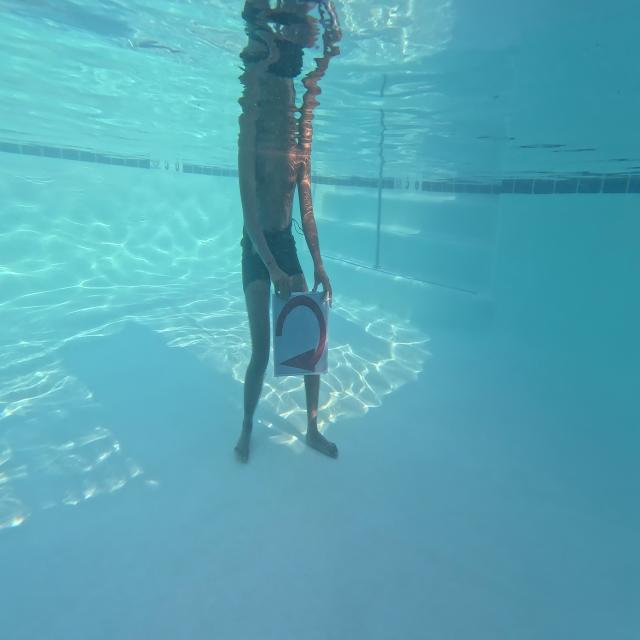red_side: (272, 272, 331, 381)
